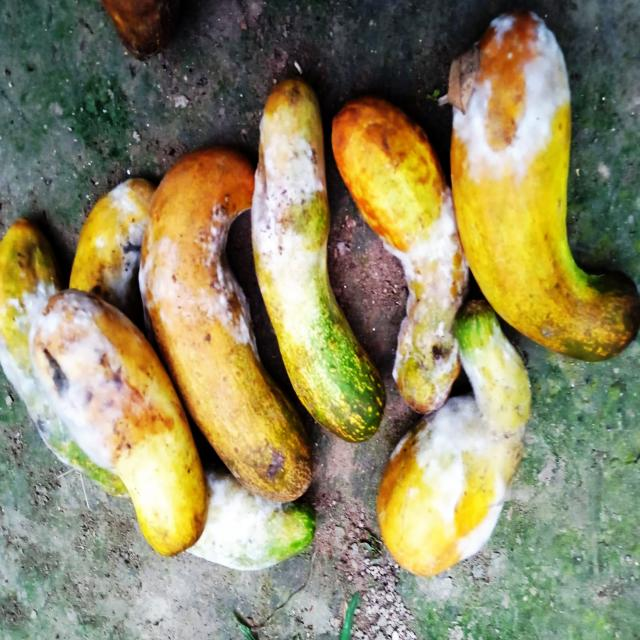Pythium-Fruit-Rot: (389, 313, 532, 568), (1, 273, 131, 494), (375, 176, 488, 414), (138, 170, 269, 368), (439, 5, 584, 182), (237, 104, 337, 297), (185, 448, 299, 586), (82, 166, 150, 324)
